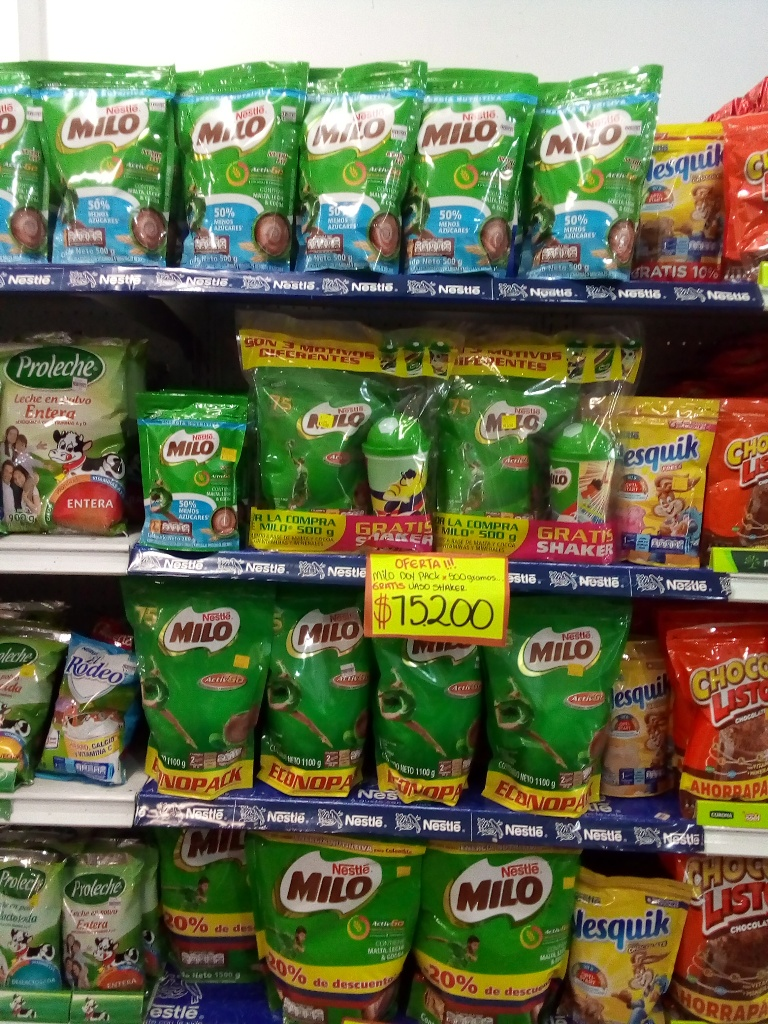COL0170103DYP1,500: (679, 853, 767, 1023)
COL0170103DYP20000: (701, 394, 768, 544)
COL0170103DYP44000: (660, 621, 768, 801)
COL0170203DYP50000: (249, 365, 369, 520)
COL0170205DYP20000: (137, 391, 249, 555)
COL0170205DYP50000: (3, 61, 53, 266)
COL0170303DYP20000: (569, 865, 687, 1021)
COL0170305DYP20000: (612, 392, 706, 560)
COL0170306DYP20000: (601, 636, 680, 800)
